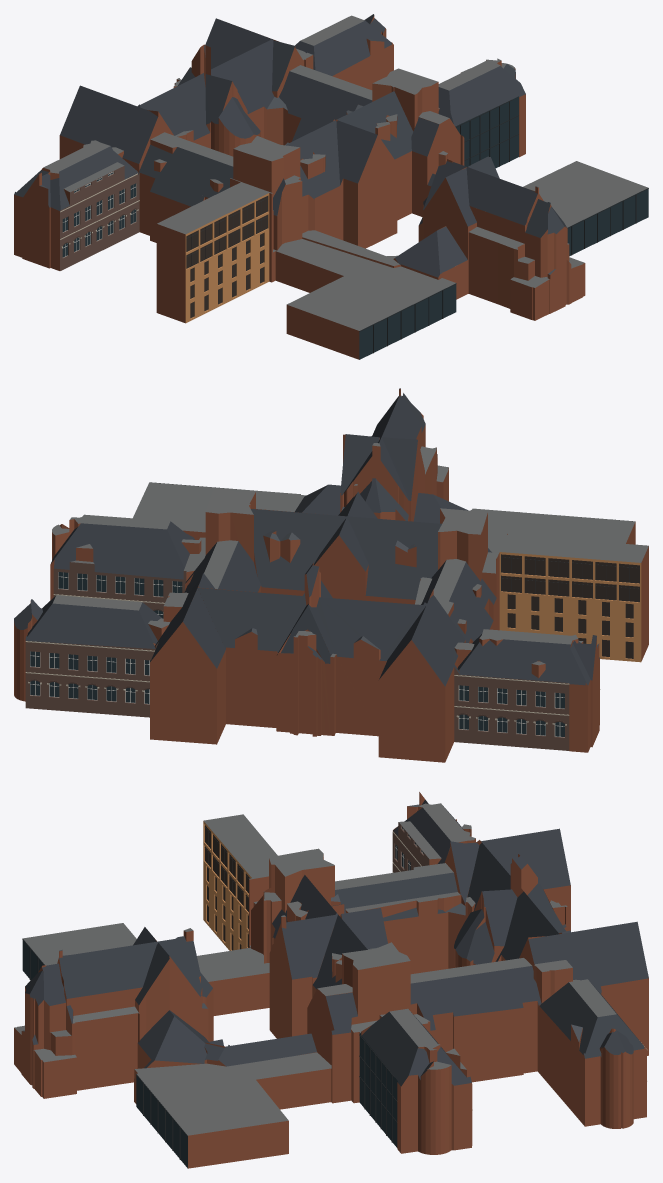
File: recipe-large-hotel-arena-236788.glb
3 views of the same model, one above another, from view 1: azimuth 30°, elevation 25°; view 2: azimuth 150°, elevation 25°; view 3: azimuth 270°, elevation 25° (orthographic). The views are drawn at different scales.
Visible parts, largest first — view 1: hotel-arena-236788; view 2: hotel-arena-236788; view 3: hotel-arena-236788.
Part boxes in pixels (bbox=[...]): hotel-arena-236788: bbox=[14, 14, 648, 359]; hotel-arena-236788: bbox=[14, 388, 648, 762]; hotel-arena-236788: bbox=[14, 792, 648, 1168].
Size of the model in its own units: 108 by 28.44 by 103.
